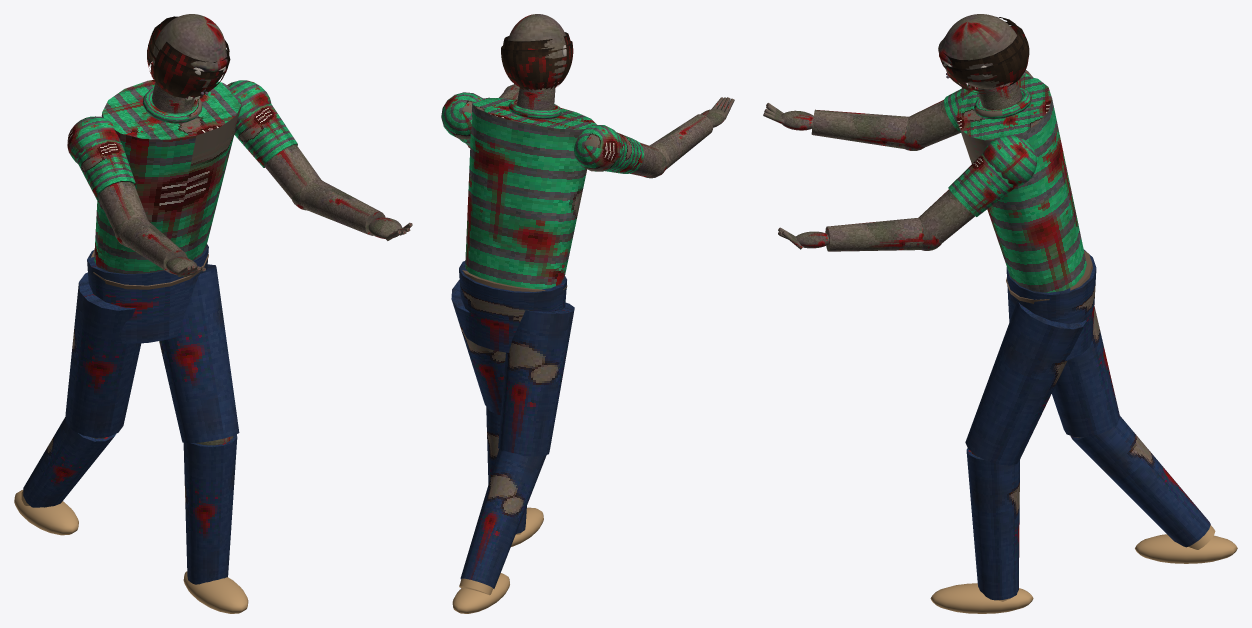
The model's file is Zombie_015.glb.
3 views of the same model, side by side, from view 1: azimuth 30°, elevation 25°; view 2: azimuth 150°, elevation 25°; view 3: azimuth 270°, elevation 25° (orthographic). The views are drawn at different scales.
Visible parts, largest first — view 1: Zombie_015, object 16, object 10, object 41, object 3, object 40; view 2: Zombie_015, object 41, object 16, object 3, object 40; view 3: Zombie_015, object 16, object 10, object 3, object 41, object 40.
Boxes of the visible parts, x1,y1,x2,y2 form: Zombie_015: (14, 80, 320, 613); object 16: (153, 14, 227, 92); object 10: (299, 179, 385, 235); object 41: (147, 23, 230, 98); object 3: (120, 217, 187, 273); object 40: (148, 16, 229, 87); Zombie_015: (441, 82, 662, 613); object 41: (501, 40, 573, 90); object 16: (508, 14, 566, 78); object 3: (649, 114, 712, 169); object 40: (502, 32, 570, 85); Zombie_015: (907, 70, 1237, 613); object 16: (938, 14, 1016, 88); object 10: (825, 218, 923, 251); object 3: (811, 109, 908, 148); object 41: (940, 21, 1029, 94); object 40: (941, 17, 1024, 92).
Bounding box in the file's own units: 0.7225 × 1.73 × 1.27.
Materials: 16 (6 with a texture image).
